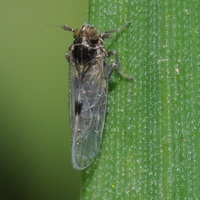insect: (61, 22, 131, 169)
